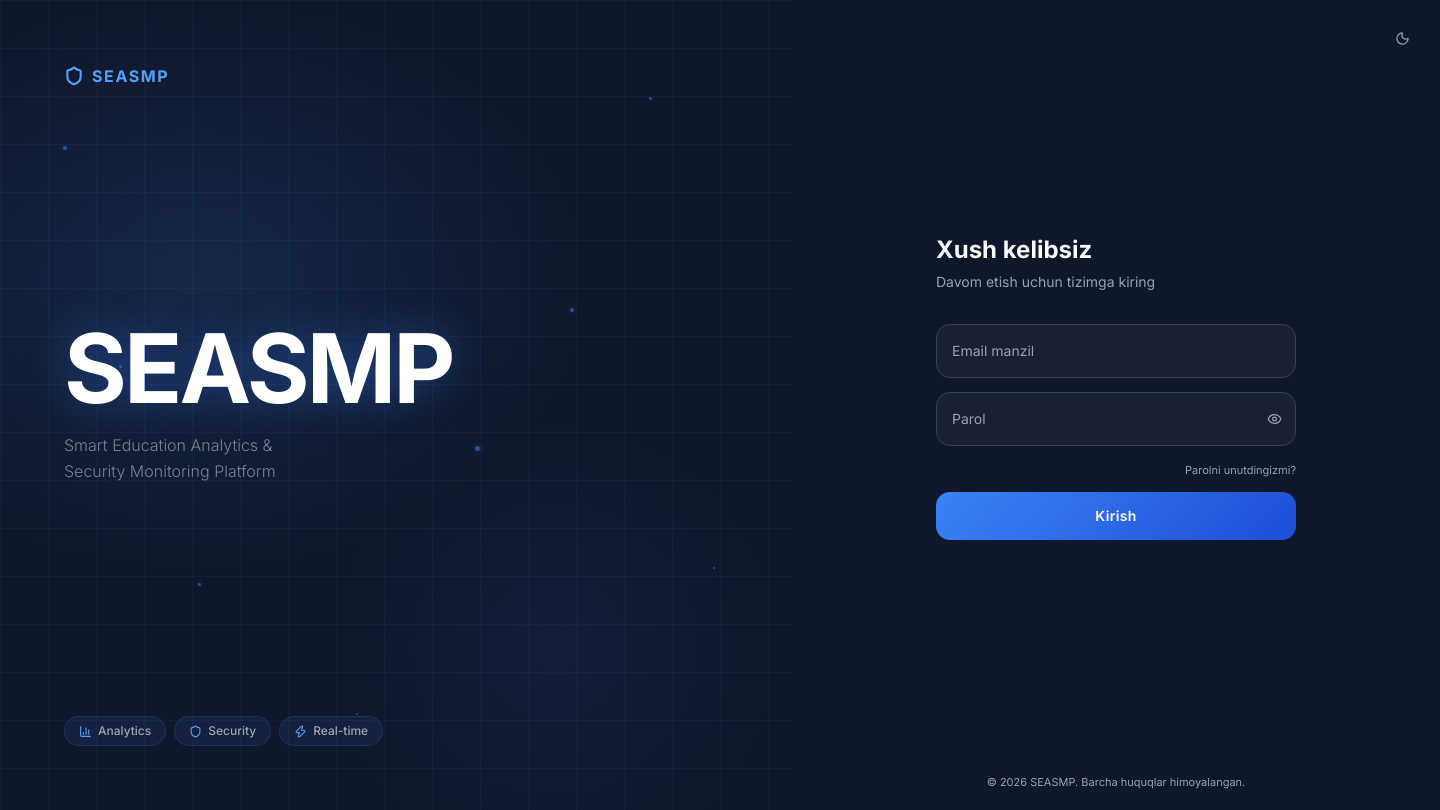
Test: LoginPage — credentials step › disables submit while loading
The image size is (1440, 810).
In the field labelled "Email manzil": point(1116, 350) 936,324 -> 1296,378, type "admin@test.com"
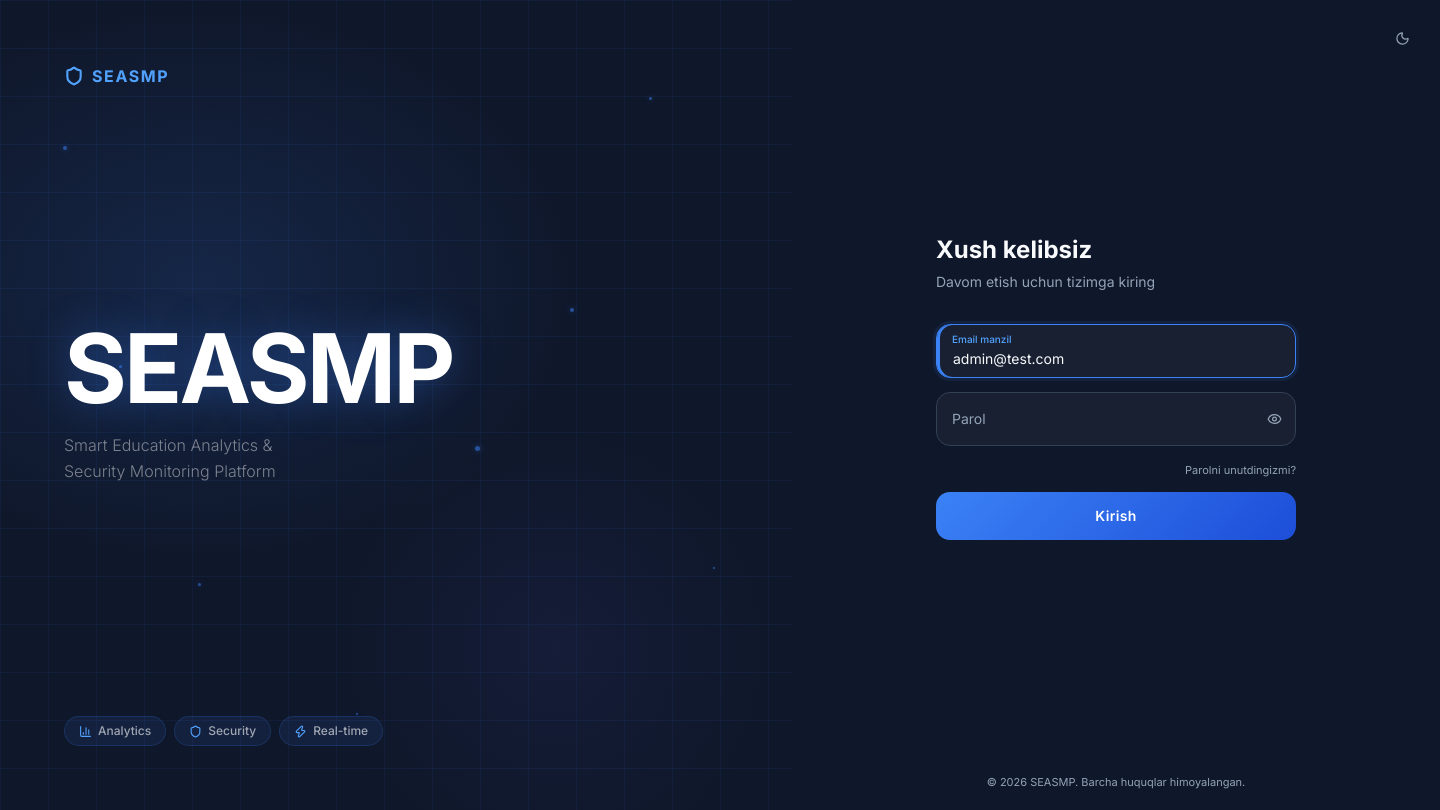
In the password field labelled "Parol": point(1116, 418) 936,392 -> 1296,446, type "Password@1"
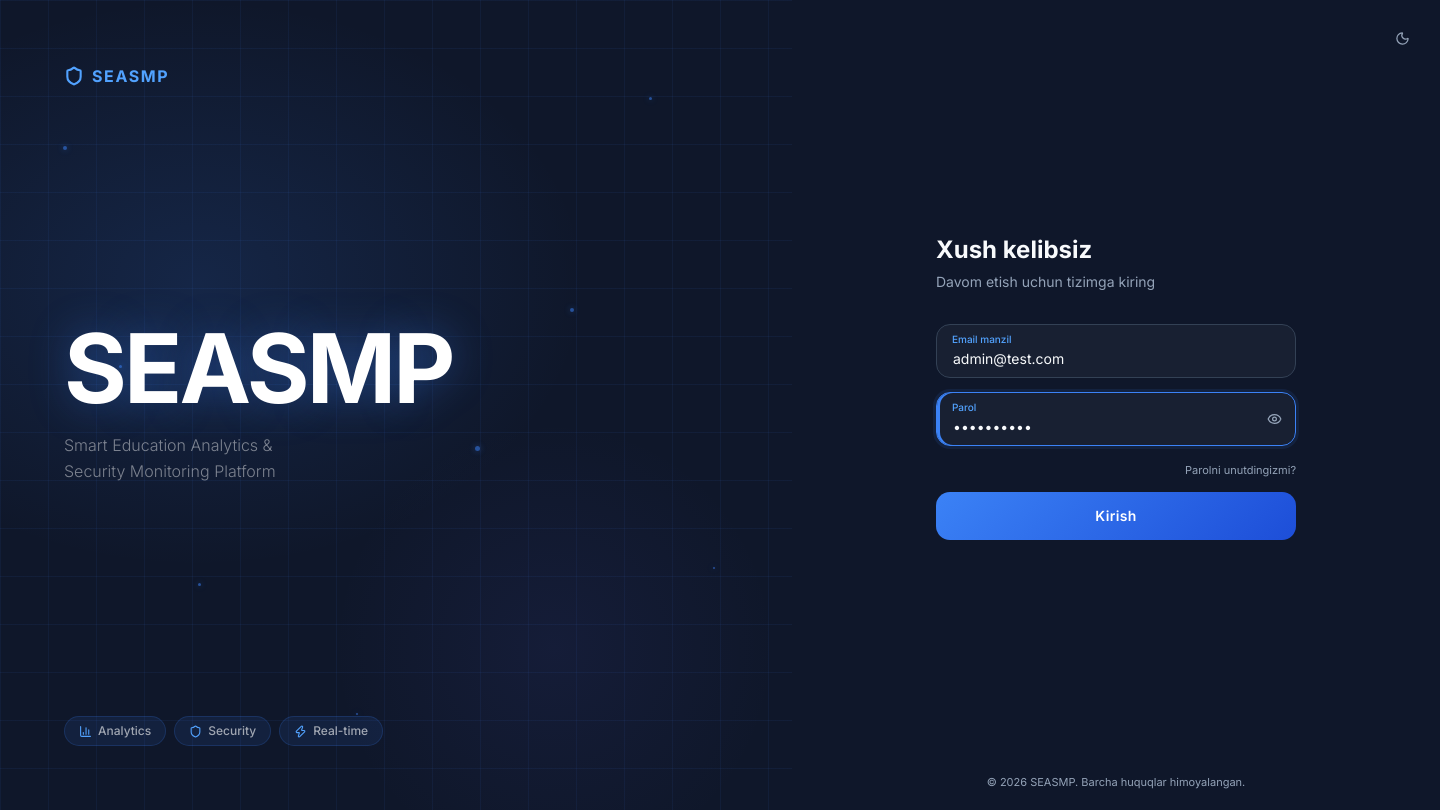
Submit the form from the button "Kirish", box 936,492 -> 1296,540
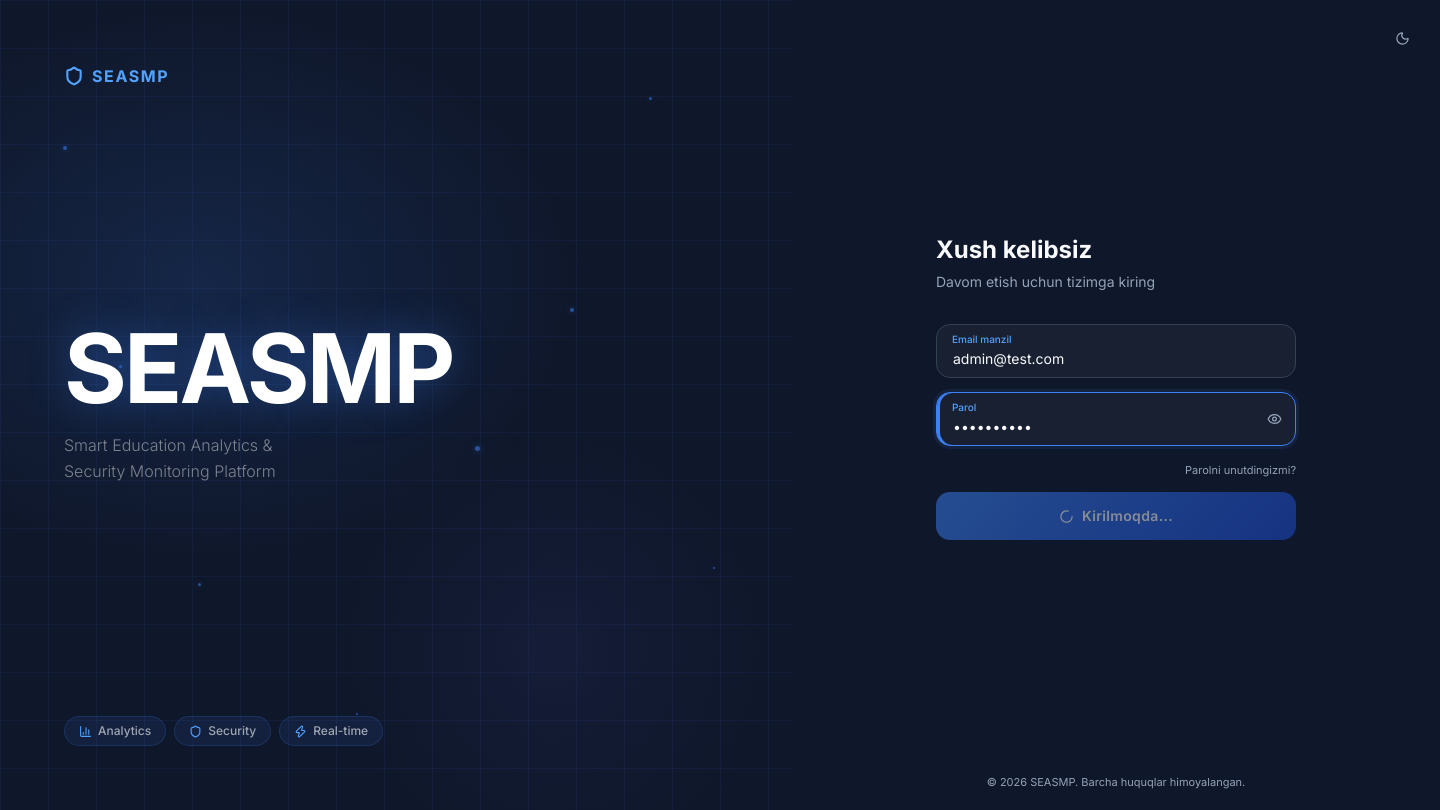
Check: the button named "kirish" is disabled, box 936,492 -> 1296,540
